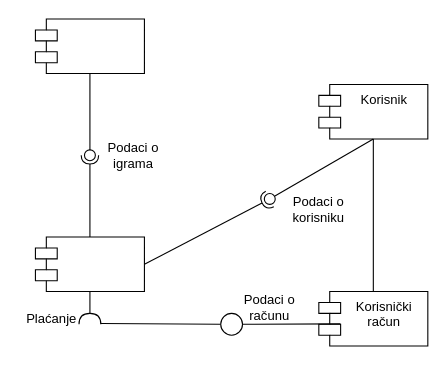
The diagram is 447 pixels wide and 365 high, and some of its shapes have lost their labels. The shapes that lost their labels are listed below. From the top down, each one's centre as x and y in pixels, then its label:
At (x=89, y=46): "Igre".
At (x=89, y=264): "Narudžba".
